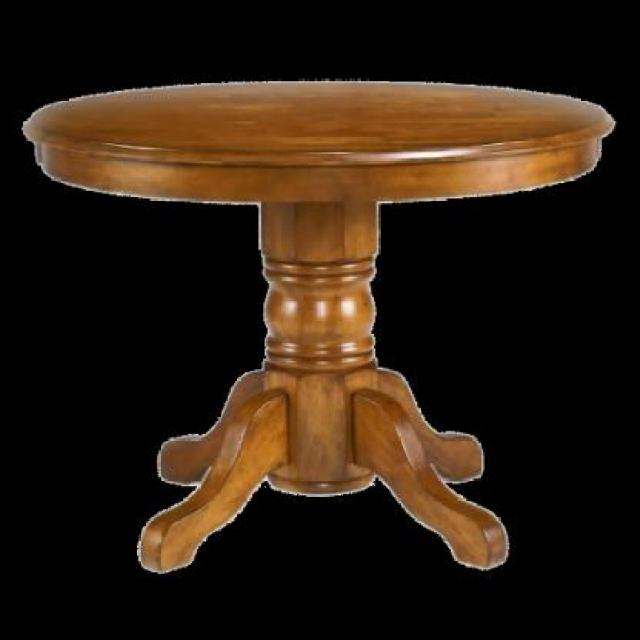table: (21, 82, 608, 568)
